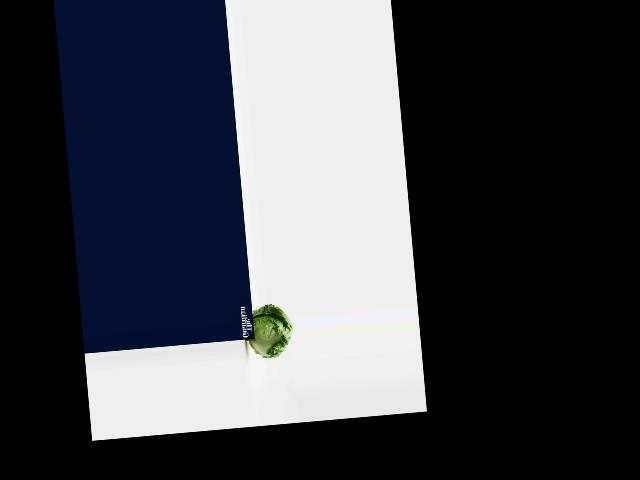lettuce: (245, 303, 297, 359)
